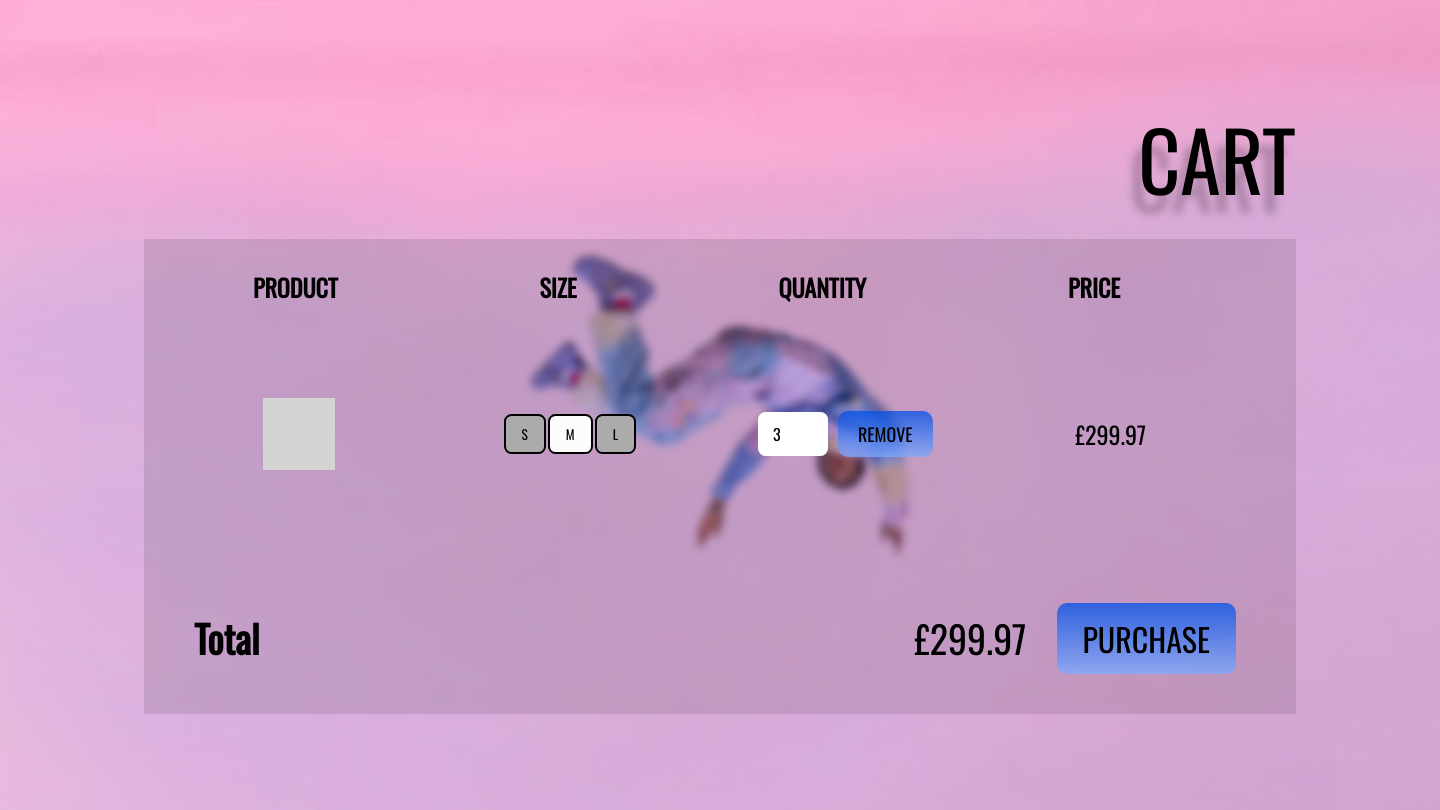
Scenario: <CartSection /> › Should set quantity of item to 1 for invalid quantity in cart
Replace the text in the number field with test id "updateQuantity-11" with "0" at (793, 434), box [758, 412, 828, 456]
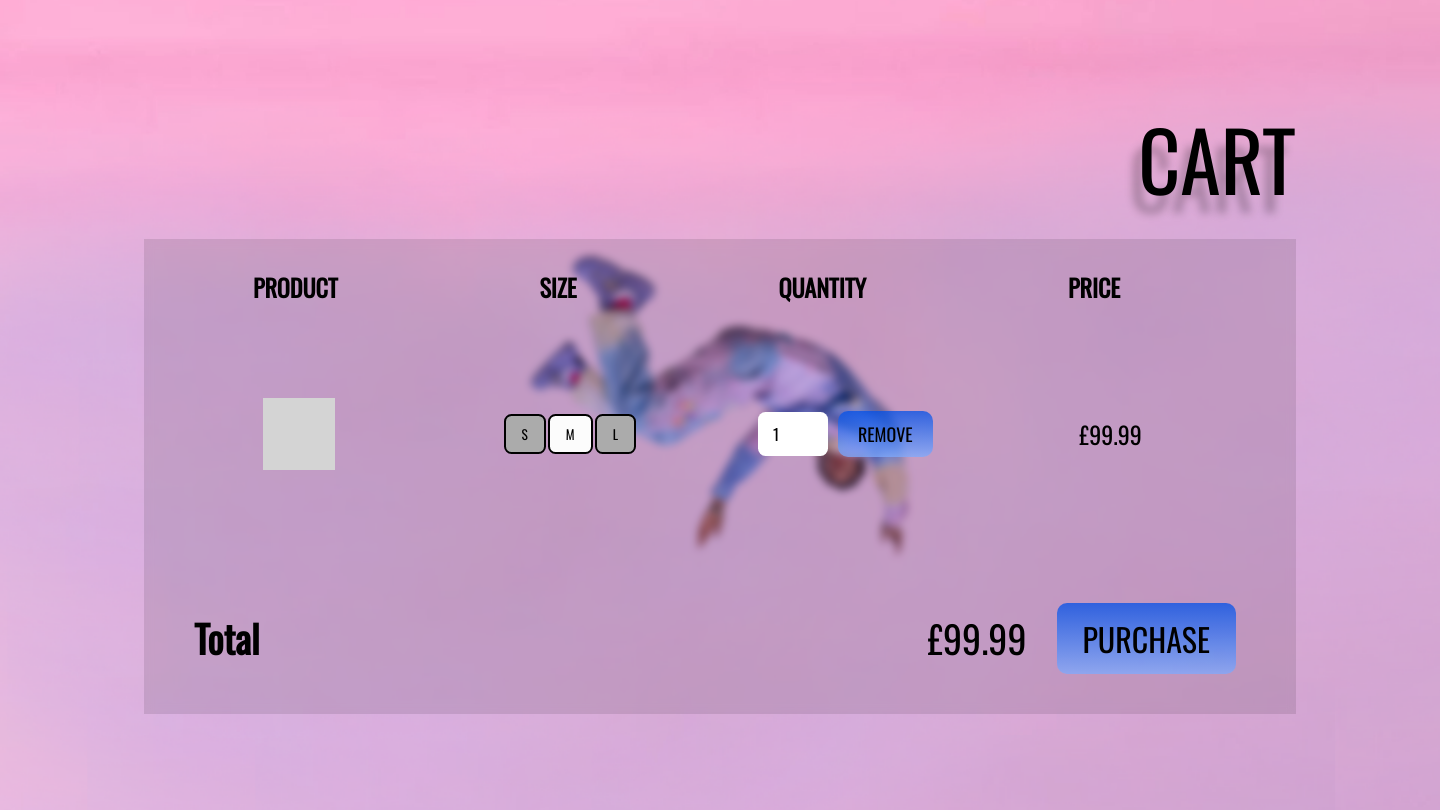
Expected: the number field with test id "updateQuantity-11" holds "1", [758, 412, 828, 456]
